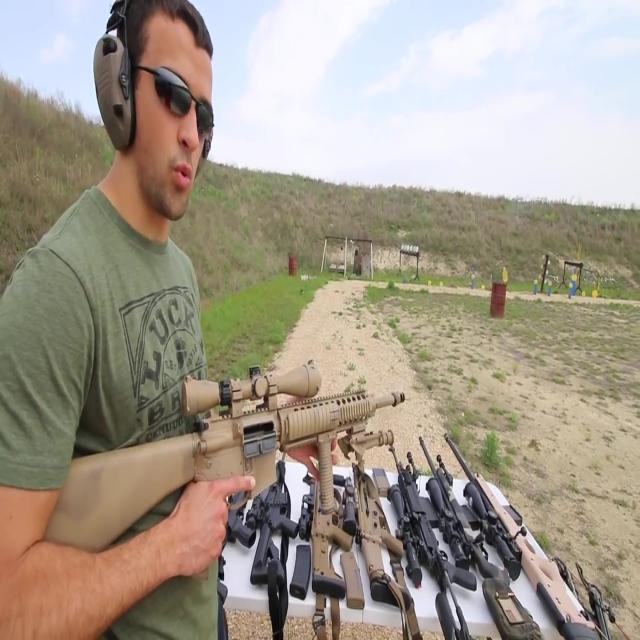Weapon: (158, 378, 606, 640), (1, 334, 414, 563)
